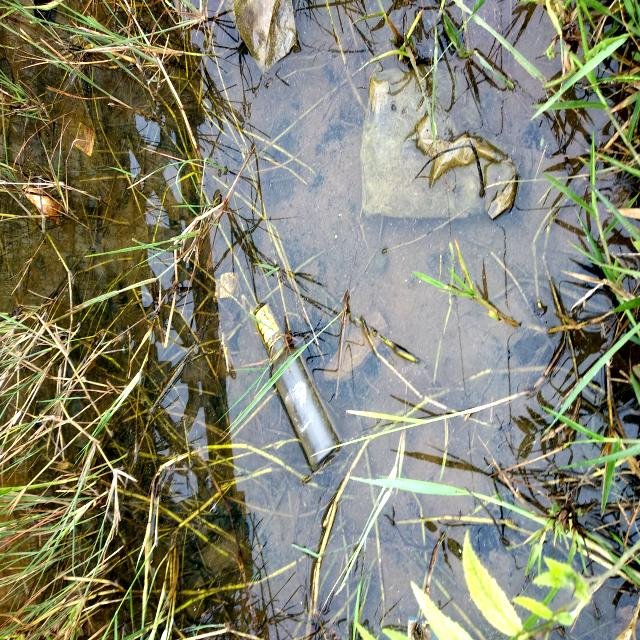Glass: (123, 323, 261, 461)
